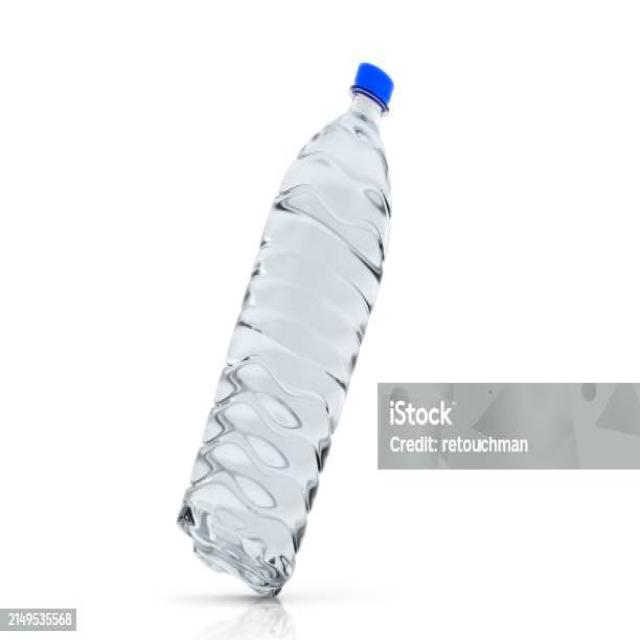bottle: (174, 58, 391, 606)
